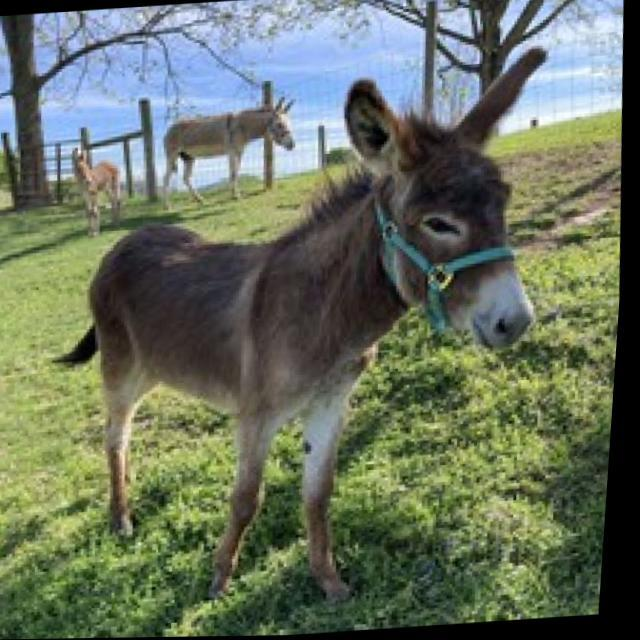Donkey: (26, 44, 576, 623), (157, 94, 300, 208), (67, 142, 128, 237)
